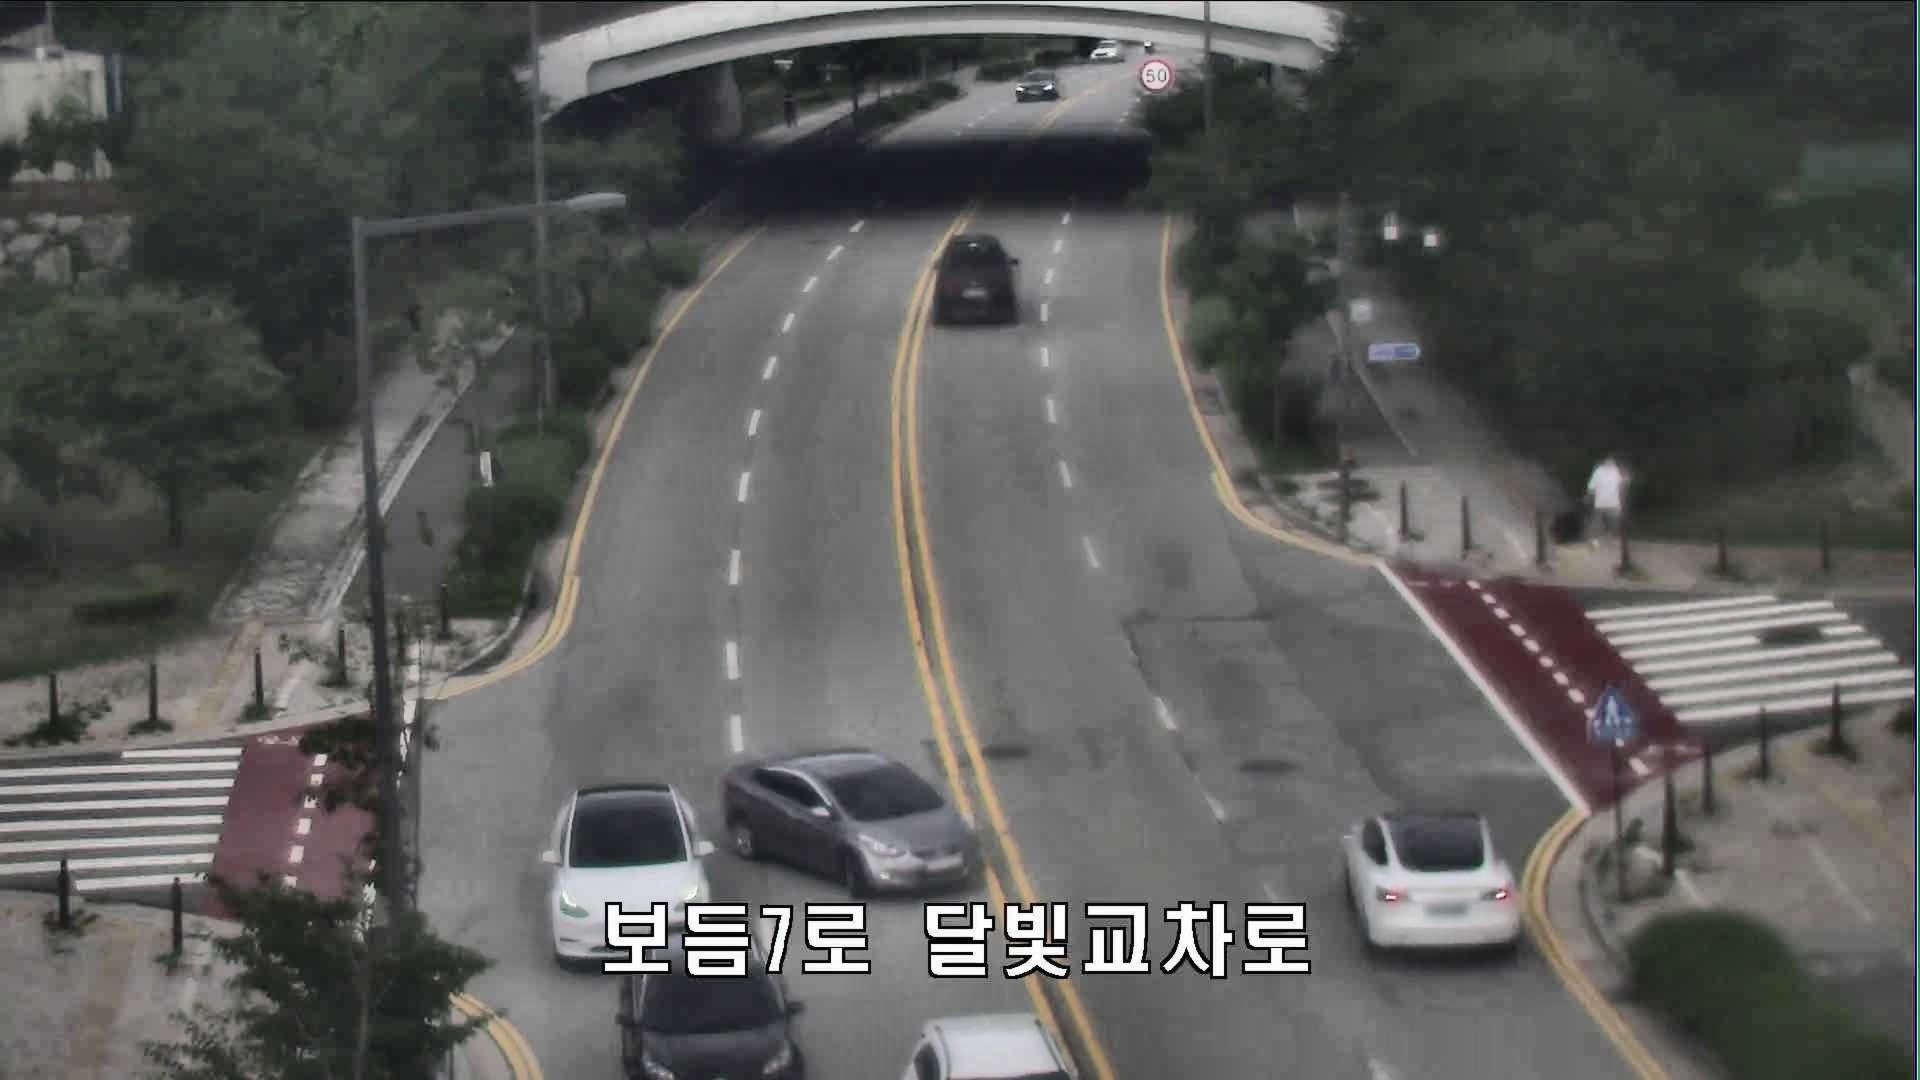sidewalk: (1582, 452, 1625, 551)
